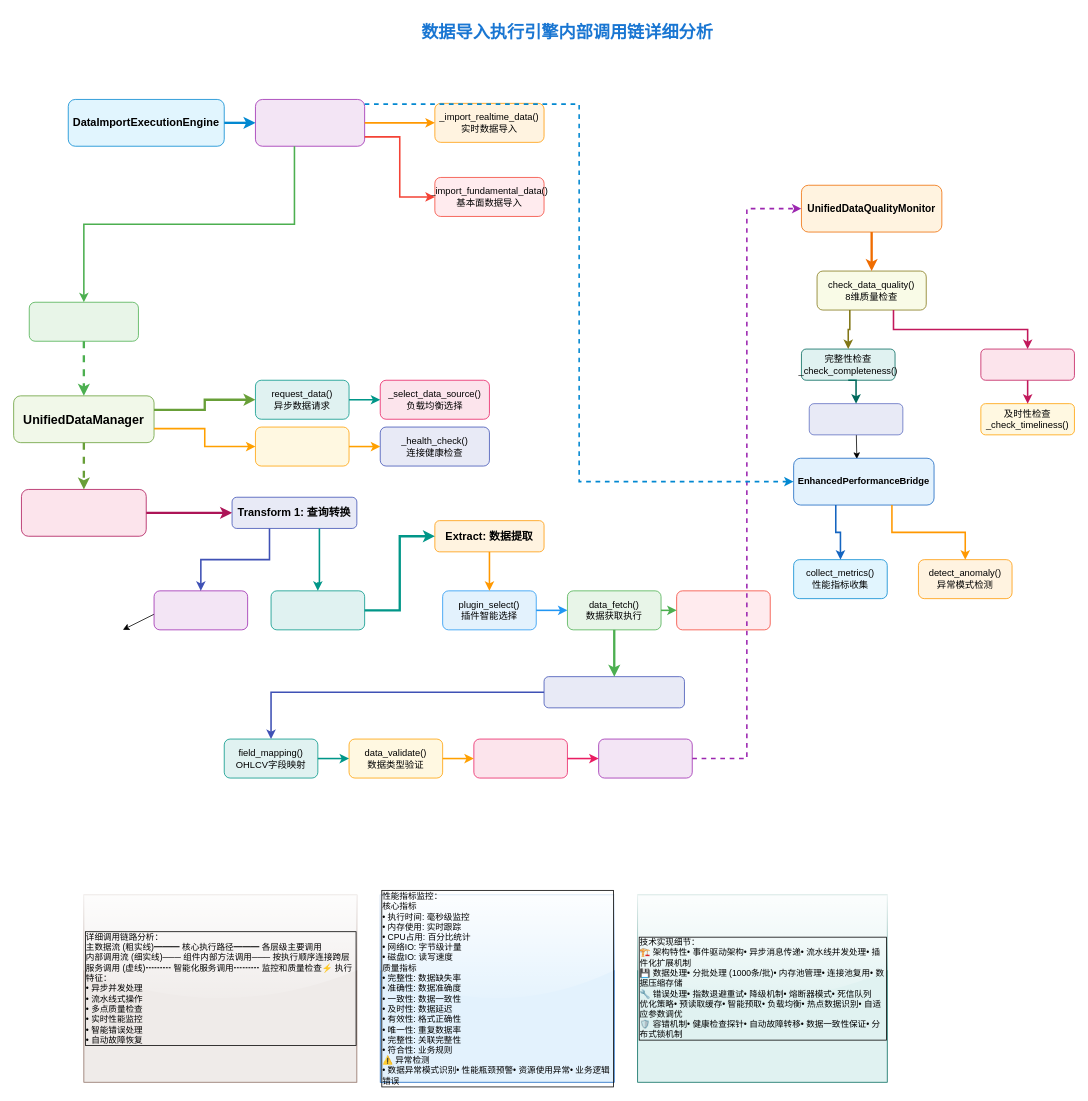
The diagram is 1088 pixels wide and 1101 high, and some of its shapes have lost their labels. The box of each missing label's shape, as (x1, y1, x2, y2) in pixels:
_check_cache() 缓存检查: (255, 426, 349, 466)
_execute_task() 任务执行核心逻辑: (255, 99, 365, 146)
_import_kline_data() K线数据导入: (28, 301, 138, 341)
error_handle() 错误处理重试: (676, 590, 770, 630)
format_convert() 格式转换处理: (473, 738, 567, 778)
metadata_build() 元数据构建: (598, 738, 692, 778)
query_normalize() 查询标准化: (270, 590, 365, 630)
query_validate() 查询参数验证: (153, 590, 248, 630)
TETDataPipeline: (21, 489, 146, 536)
Transform 2: 数据标准化: (543, 676, 684, 708)
一致性检查 _check_consistency(): (808, 403, 903, 435)
准确性检查 _check_accuracy(): (980, 348, 1074, 380)
